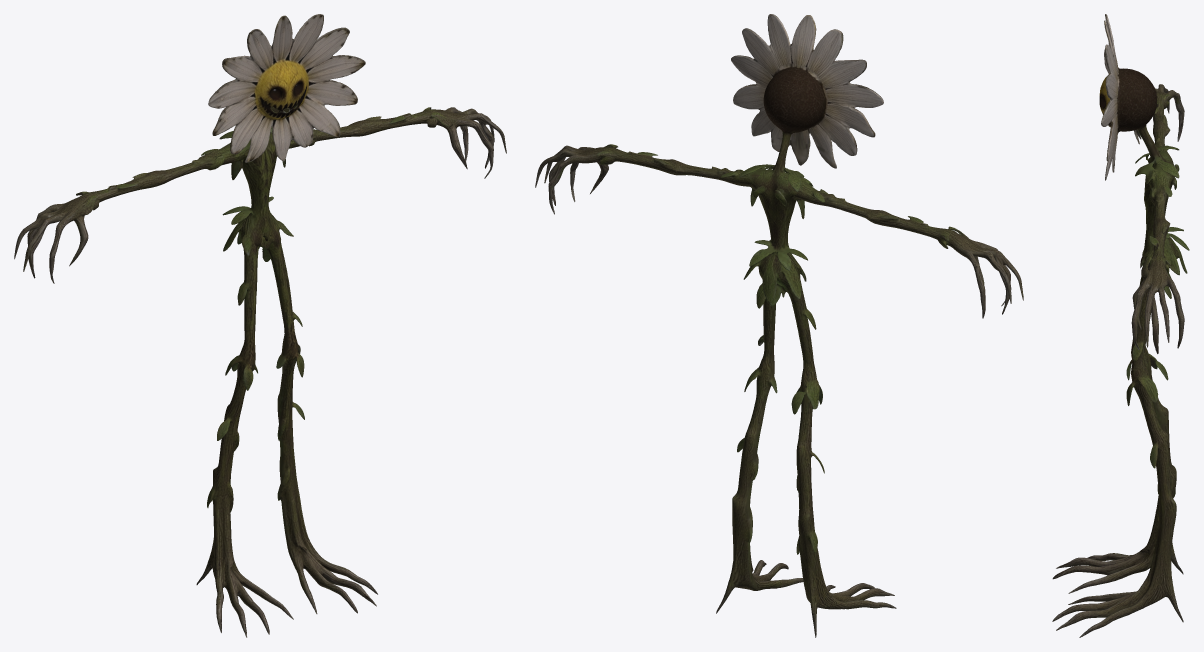
Rendered from Meshy_AI_Dreadbloom_1027162138_texture.glb.
The picture shows the model from 3 angles, left to right: view 1: azimuth 30°, elevation 25°; view 2: azimuth 150°, elevation 25°; view 3: azimuth 270°, elevation 25°; orthographic projection. The views are drawn at different scales.
Size of the model in its own units: 1.63 by 1.9 by 0.4093.
Materials: 1 (1 with a texture image).
